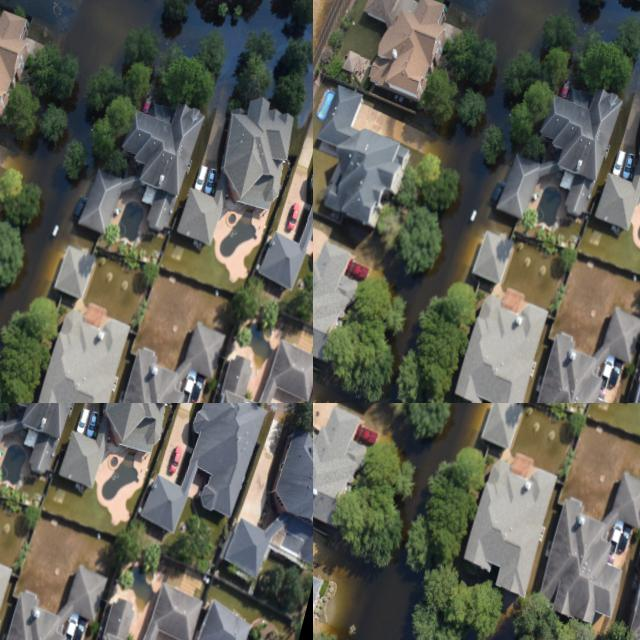fire: (19, 403, 226, 640), (390, 403, 490, 535), (368, 568, 416, 640), (484, 590, 517, 640)
